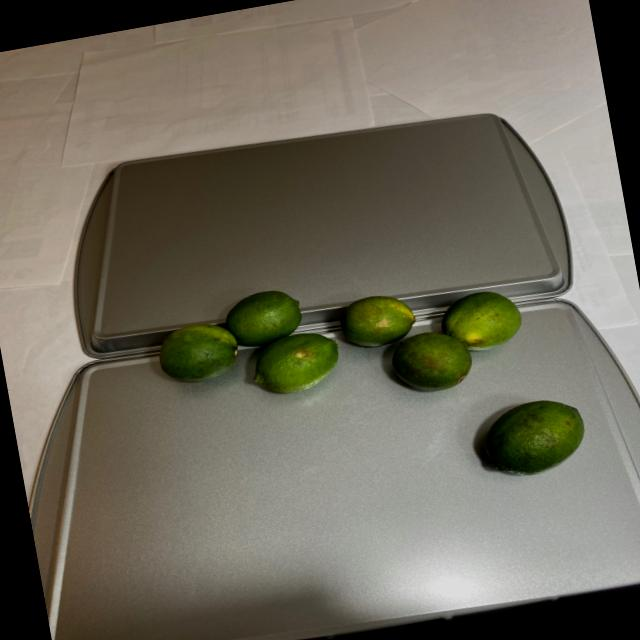lemon: (148, 246, 536, 437), (473, 389, 593, 483)
